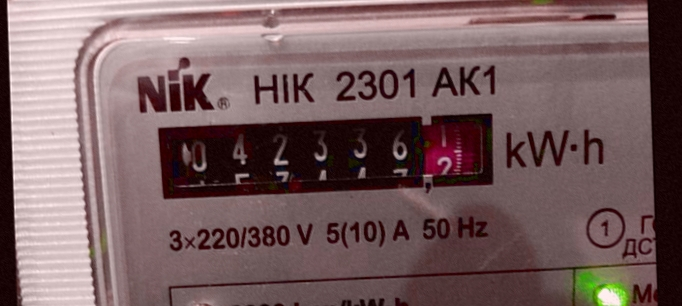0: (188, 139, 209, 174)
1: (436, 122, 450, 151)
2: (269, 132, 290, 169), (434, 155, 453, 177)
3: (348, 125, 369, 162), (310, 127, 330, 165)
4: (229, 130, 249, 168)
6: (387, 127, 410, 163)
screen: (149, 104, 504, 208)
